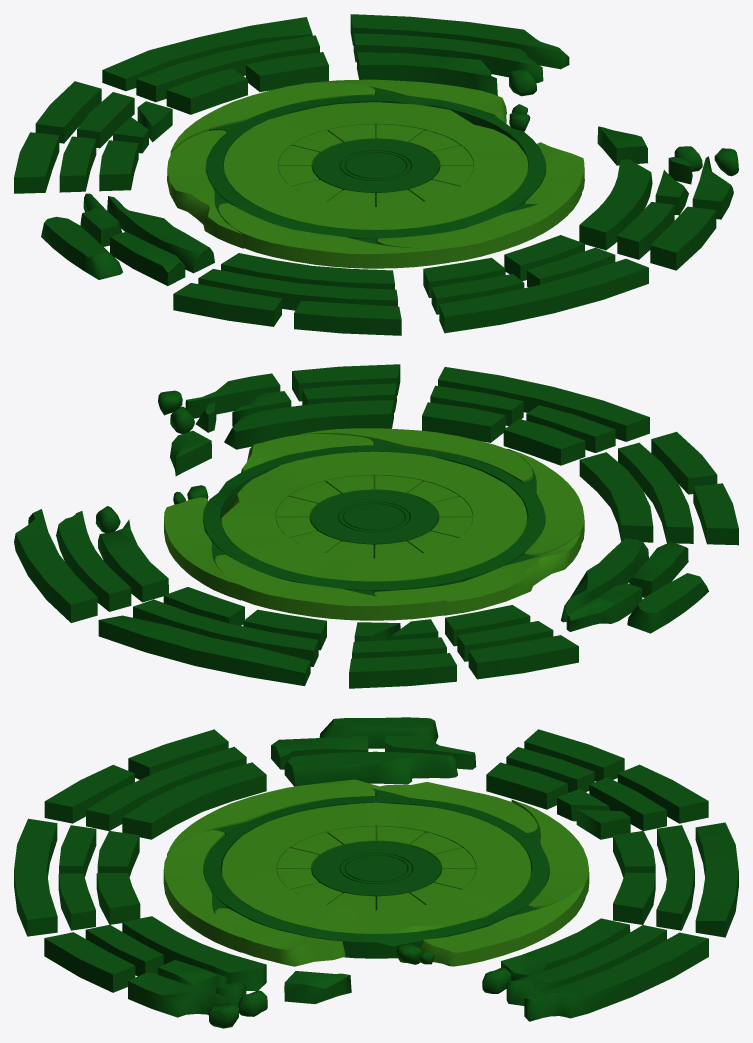
3 views of the same model, one above another, from view 1: azimuth 30°, elevation 25°; view 2: azimuth 150°, elevation 25°; view 3: azimuth 270°, elevation 25° (orthographic).
Visible parts, largest first — view 1: 对象032, 对象039, 对象042; view 2: 对象032; view 3: 对象032, 对象042, 对象043, 对象039.
Boxes of the visible parts, box(x1,y1,x2,y2) form: 对象032: box(14, 14, 733, 335); 对象039: box(509, 70, 536, 96); 对象042: box(714, 148, 738, 176); 对象032: box(14, 364, 738, 688); 对象032: box(14, 717, 738, 1021); 对象042: box(208, 1003, 239, 1028); 对象043: box(238, 990, 267, 1016); 对象039: box(482, 968, 511, 993).
Bounding box in the file's own units: 978 × 33.92 × 1012.
